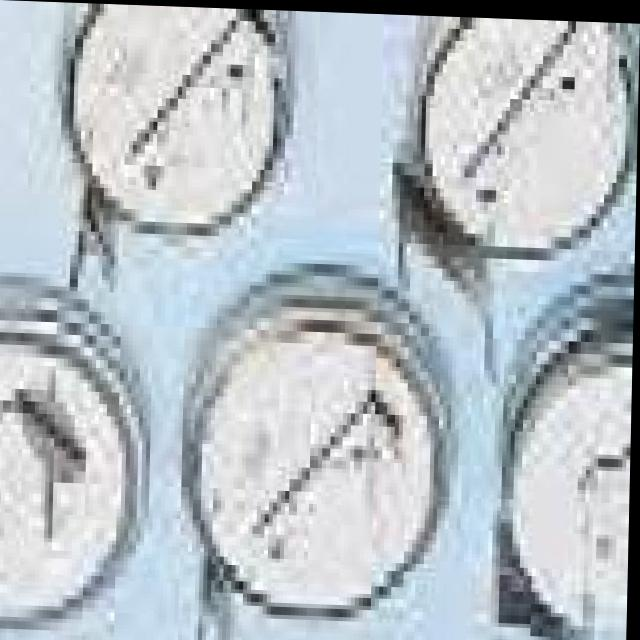battery: (173, 261, 472, 640), (11, 0, 304, 289), (363, 11, 640, 287), (0, 296, 163, 640), (481, 286, 635, 640)
